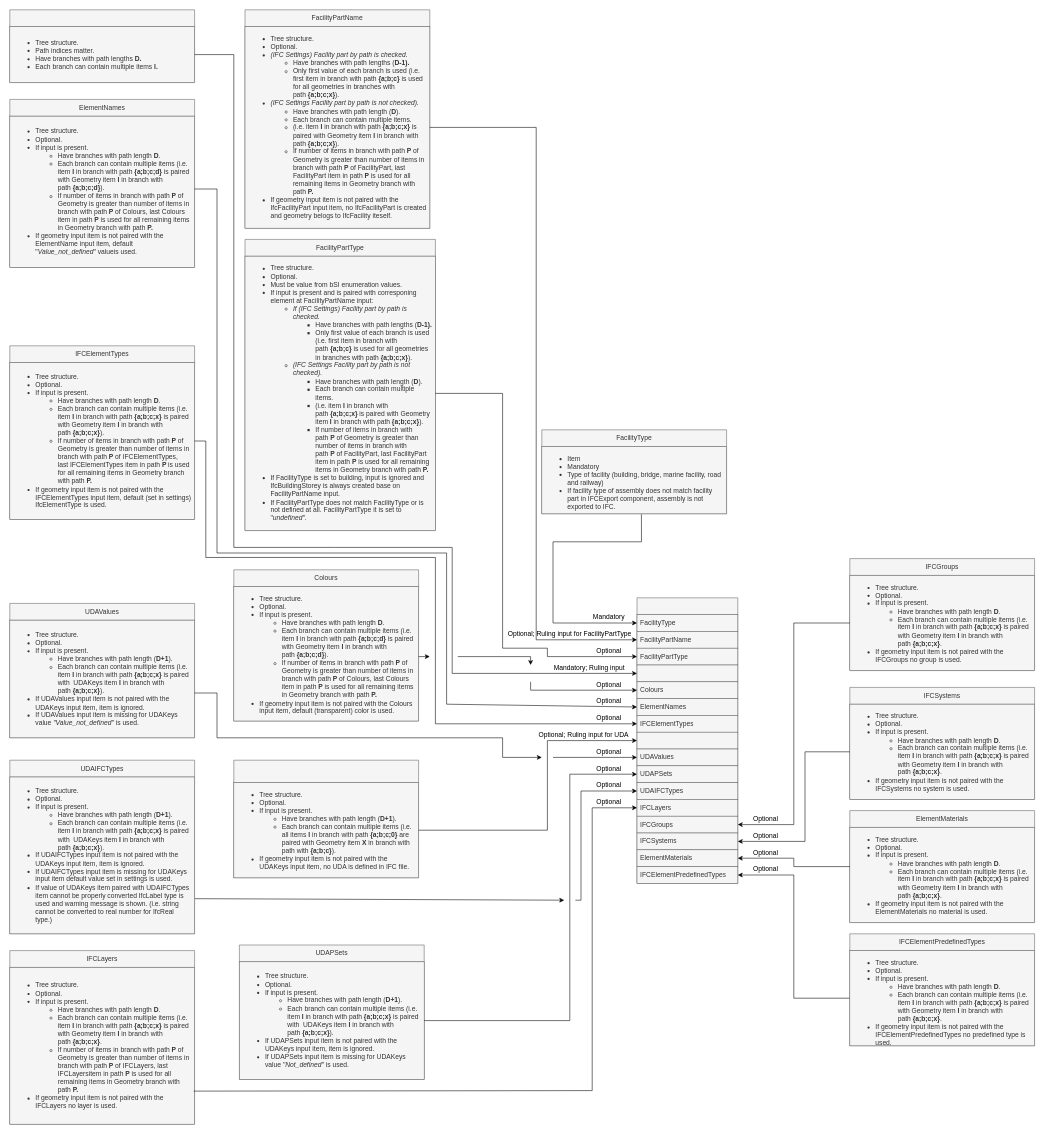
Image size: 1044x1134. Some labels were removed from this diagram. Each missing label, with the box of its shape:
Geometry: (636, 664, 738, 682)
Geometry input (ruling parameter): (9, 9, 195, 83)
IFCExport: (636, 597, 738, 883)
UDAKeys: (636, 732, 738, 749)
UDAKeys (ruling parameter for UDAValues,UDAPsets and UDAIFCTypes inputs): (233, 760, 419, 878)
